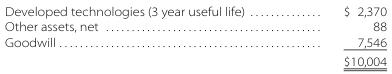table: (4, 3, 386, 68)
table column: (4, 3, 293, 68), (293, 3, 386, 68)
table row: (4, 34, 386, 51), (4, 51, 386, 68), (4, 18, 386, 34), (4, 3, 386, 18)
